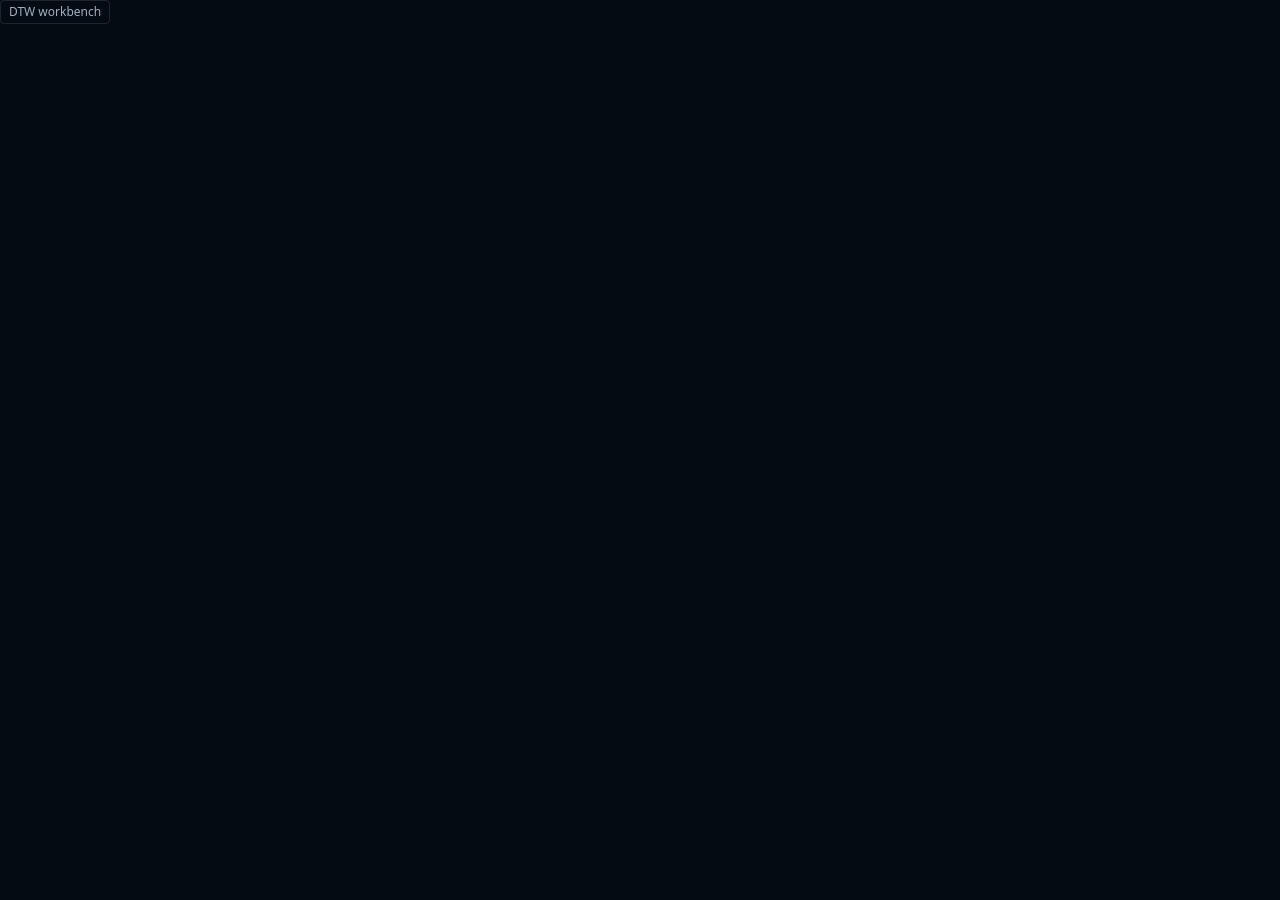
WorkbenchDialog › opens from the button on the stream's latest trace, pinned against newer ones
The width and height of the screenshot is (1280, 900).
Later steps or results of the test are not shown.
Click the button "DTW workbench" at (55, 12), box [0,0,110,24]
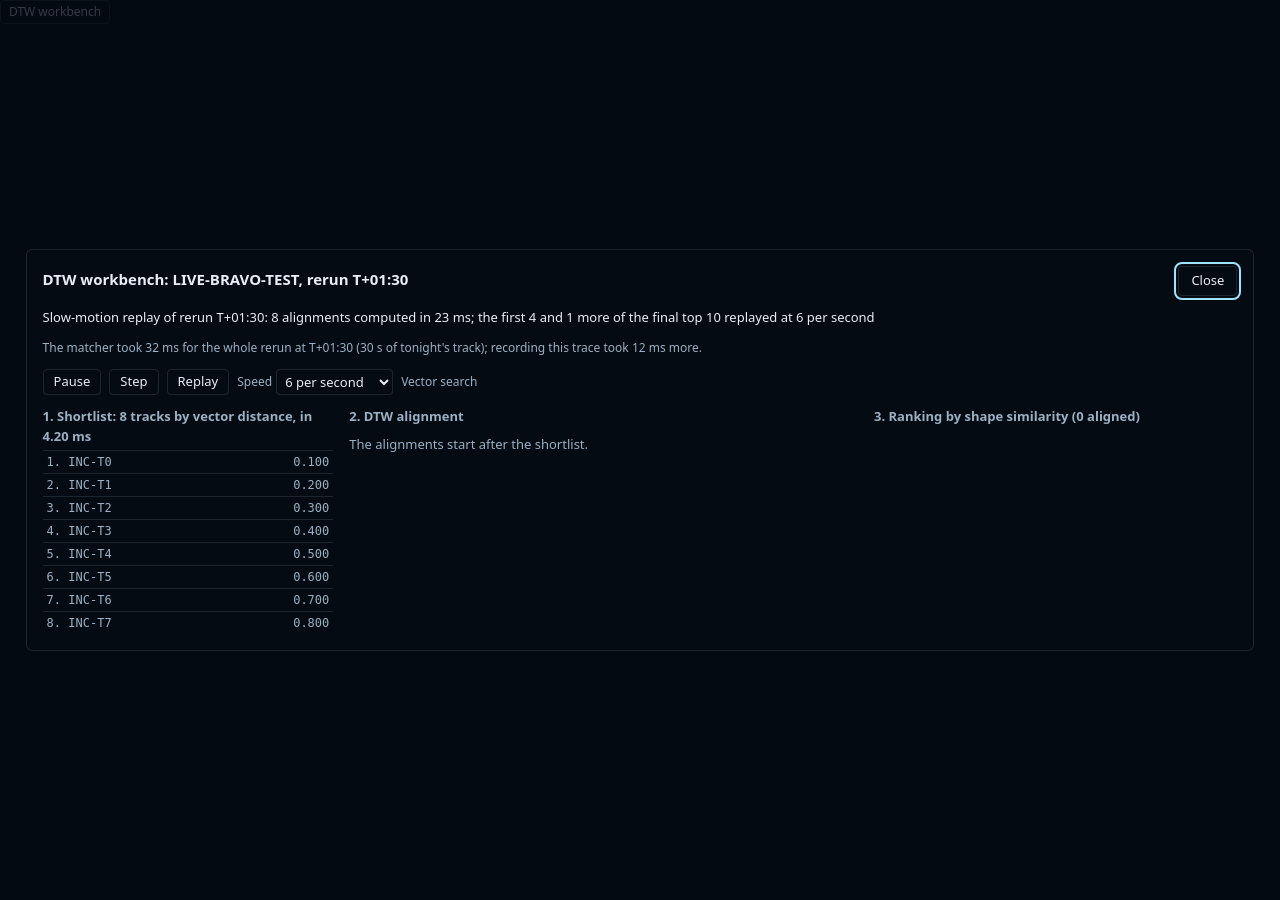
Expected: the heading "DTW workbench: LIVE-BRAVO-TEST, rerun T+01:30" is shown, [43,268,408,290]
